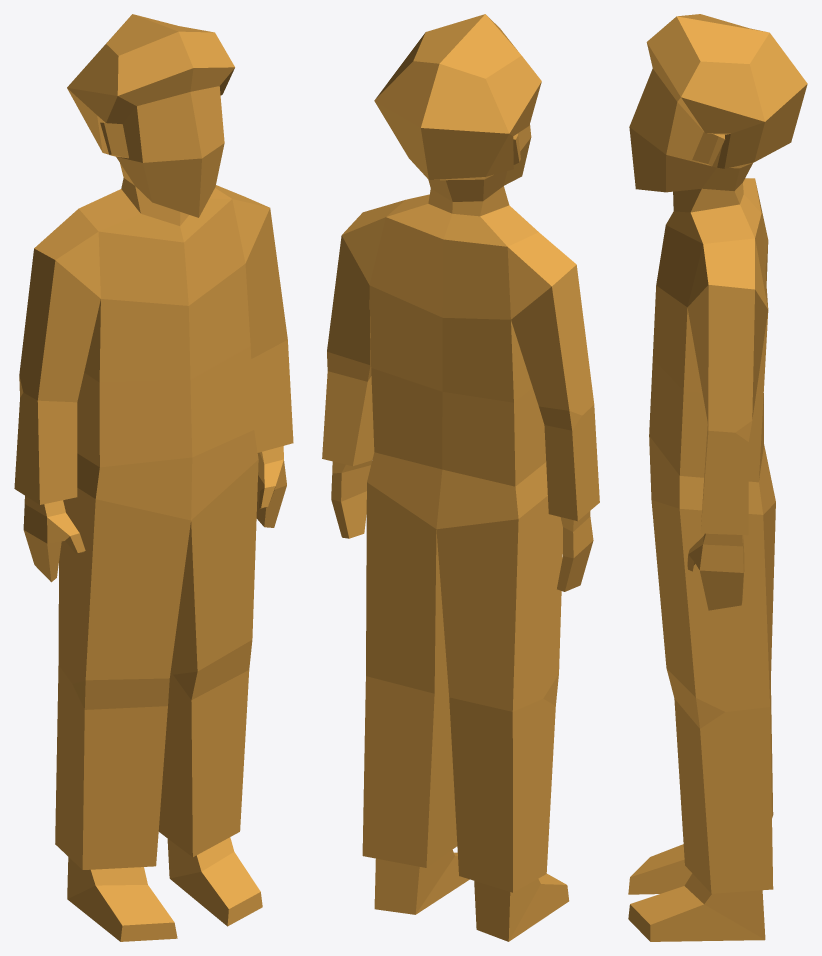
File: boy-shirt.fbx
The picture shows the model from 3 angles, left to right: view 1: azimuth 30°, elevation 25°; view 2: azimuth 150°, elevation 25°; view 3: azimuth 270°, elevation 25°; orthographic projection.
Parts seen in each view (by area): view 1: boy-shirt; view 2: boy-shirt; view 3: boy-shirt.
Boxes of the visible parts, x1,y1,x2,y2 form: boy-shirt: (14, 14, 293, 941); boy-shirt: (322, 14, 599, 941); boy-shirt: (628, 14, 807, 941).
Bounding box in the file's own units: 0.3373 × 1.11 × 0.2023.
